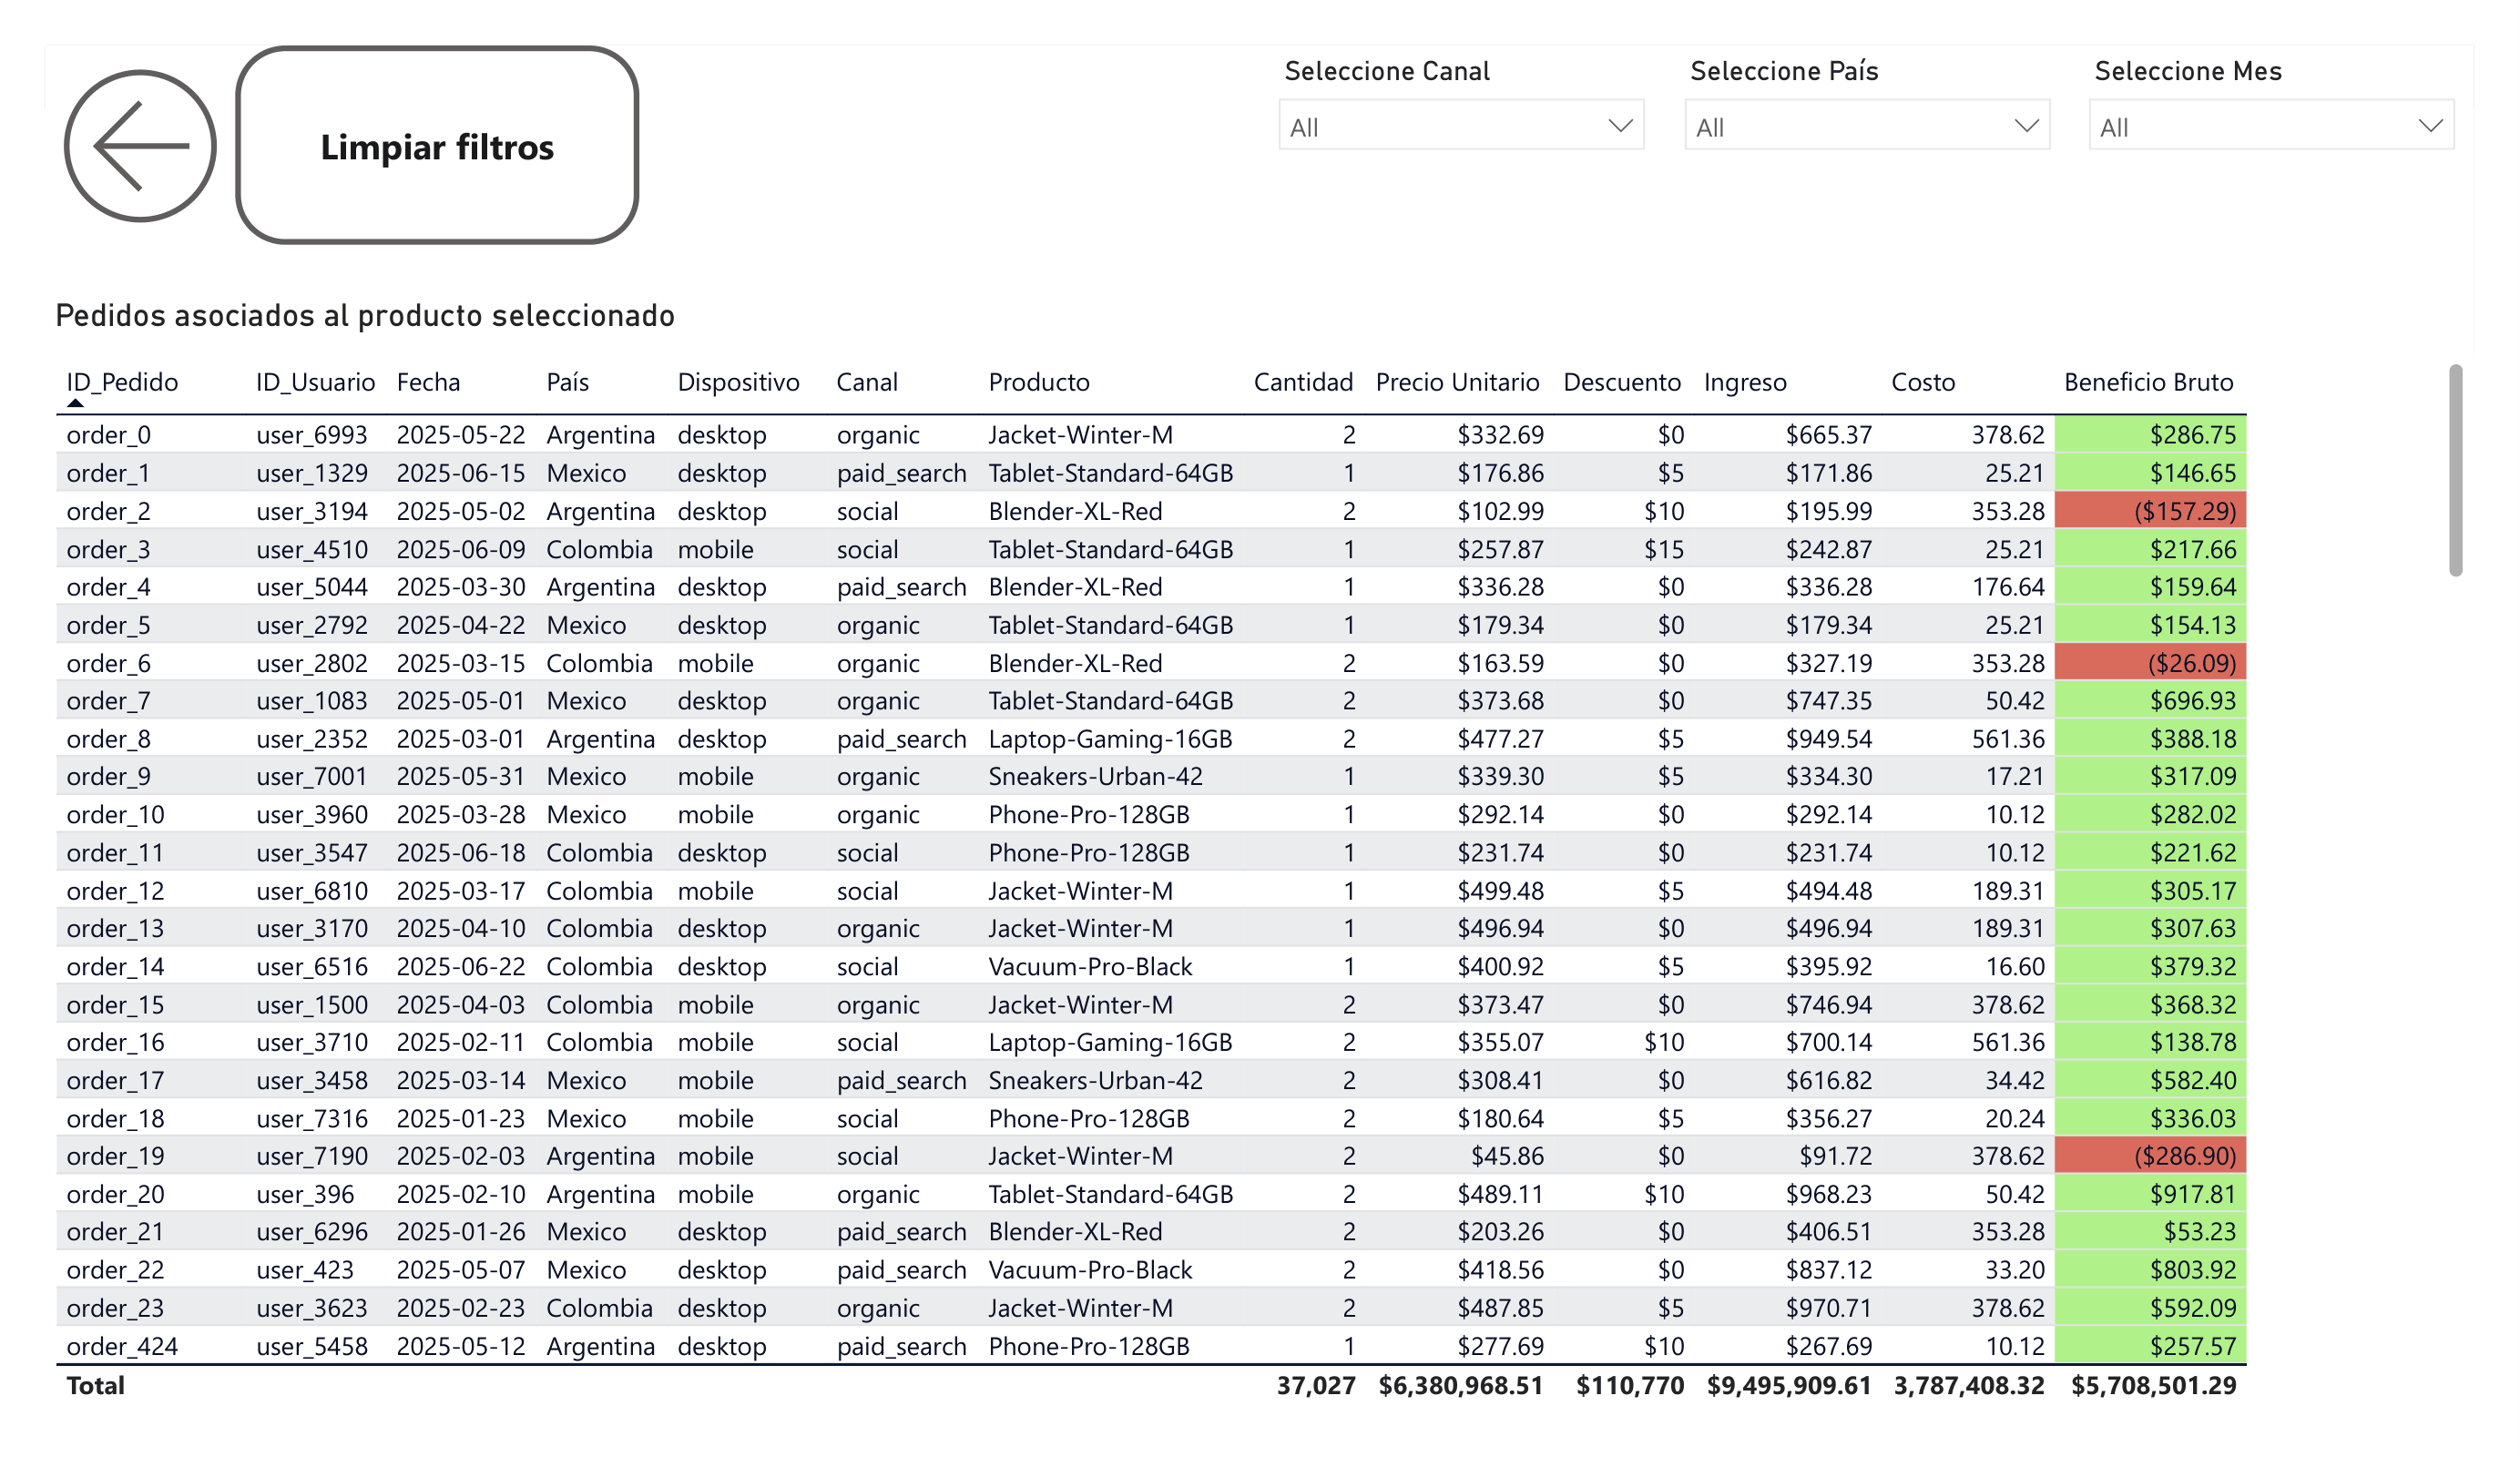

This screenshot's page, from the dashboard's own definition file:
{"tool":"powerbi","page":{"name":"Drill-through","canvas":[1280,720],"ordinal":2},"visuals":[{"type":"tableEx","title":"Pedidos asociados al producto seleccionado","fields":{"Values":["orders_clean.id_pedido","orders_clean.id_usuario","dim_fecha.Date","orders_clean.pais","orders_clean.dispositivo","orders_clean.fuente_referencia","catalog_clean.nombre_producto","_Medidas.Cantidad Total","Sum(orders_clean.precio_unitario)","Sum(orders_clean.monto_descuento)","_Medidas.Ingresos Totales","_Medidas.Costo Total"]},"box":[0,132,1280,588],"z":0},{"type":"actionButton","box":[0,0,100,105],"z":1000},{"type":"slicer","fields":{"Values":["orders_clean.pais"]},"box":[854,0,213,105],"z":2000},{"type":"slicer","fields":{"Values":["orders_clean.fuente_referencia"]},"box":[640,0,213,105],"z":3000},{"type":"slicer","fields":{"Values":["dim_fecha.Mes_nombre"]},"box":[1067,0,213,105],"z":4000},{"type":"actionButton","box":[100,0,213,105],"z":5000}]}

Visuals, with their boxes on the page's 1280x720 design canvas (x1, y1, x2, y2). These are canvas units, not pixel positions in the 2520x1457 screenshot, which may show the page scaled, cropped or inside an application window:
"Pedidos asociados al producto seleccionado" tableEx: detection(0, 132, 1280, 720)
actionButton: detection(0, 0, 100, 105)
slicer - orders_clean.pais: detection(854, 0, 1067, 105)
slicer - orders_clean.fuente_referencia: detection(640, 0, 853, 105)
slicer - dim_fecha.Mes_nombre: detection(1067, 0, 1280, 105)
actionButton: detection(100, 0, 313, 105)
